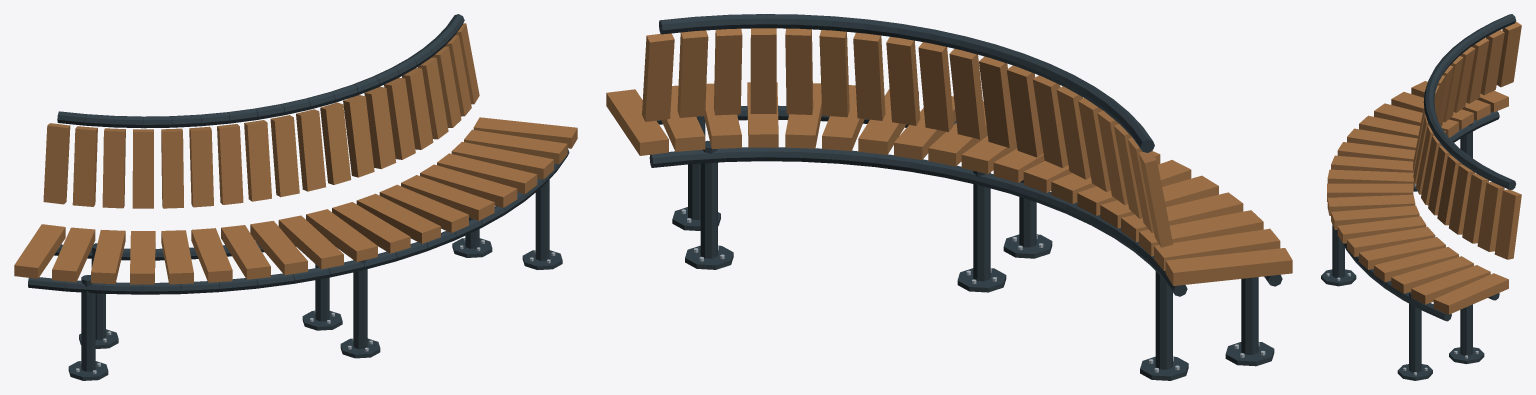
Rendered from b01_curve_segment_park_bench.glb.
3 renders of one model, left to right at view 1: azimuth 30°, elevation 25°; view 2: azimuth 150°, elevation 25°; view 3: azimuth 270°, elevation 25°, orthographic. The views are drawn at different scales.
Parts seen in each view (by area): view 1: b01_curve_segment_park_bench; view 2: b01_curve_segment_park_bench; view 3: b01_curve_segment_park_bench.
Part boxes in pixels (<box>): b01_curve_segment_park_bench: <box>14,14,577,380</box>; b01_curve_segment_park_bench: <box>606,14,1292,380</box>; b01_curve_segment_park_bench: <box>1321,14,1521,380</box>.
Bounding box in the file's own units: 2.83 × 1.02 × 1.02.
